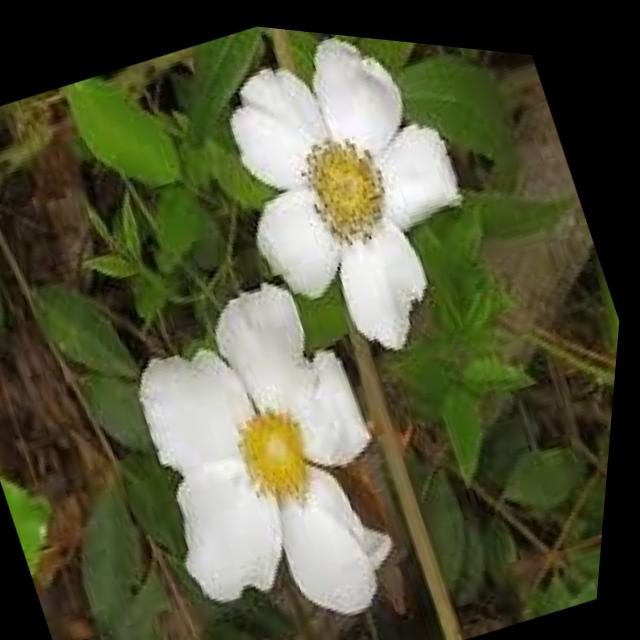Flower: (78, 240, 471, 640), (160, 15, 529, 399)
